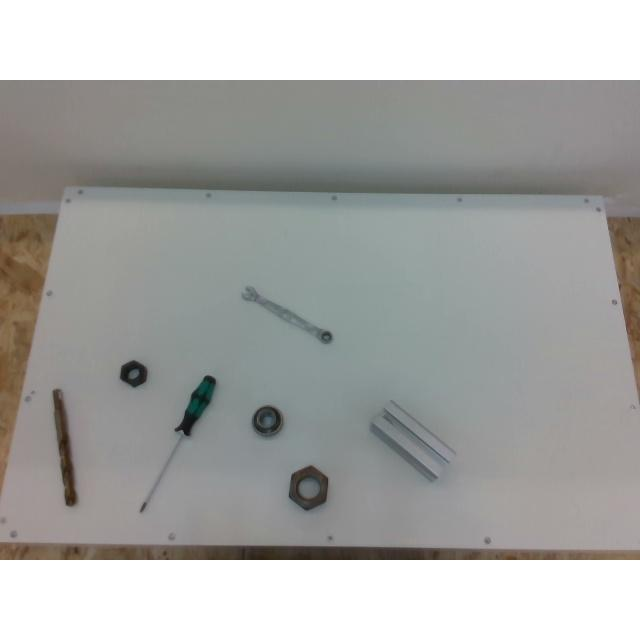Bearing2: (252, 404, 284, 436)
Drill: (52, 389, 76, 505)
M20: (120, 360, 148, 388)
M30: (288, 466, 328, 509)
S40_40_G: (370, 401, 454, 479)
Screwdriver: (139, 375, 215, 513)
Wrench: (240, 286, 332, 344)
